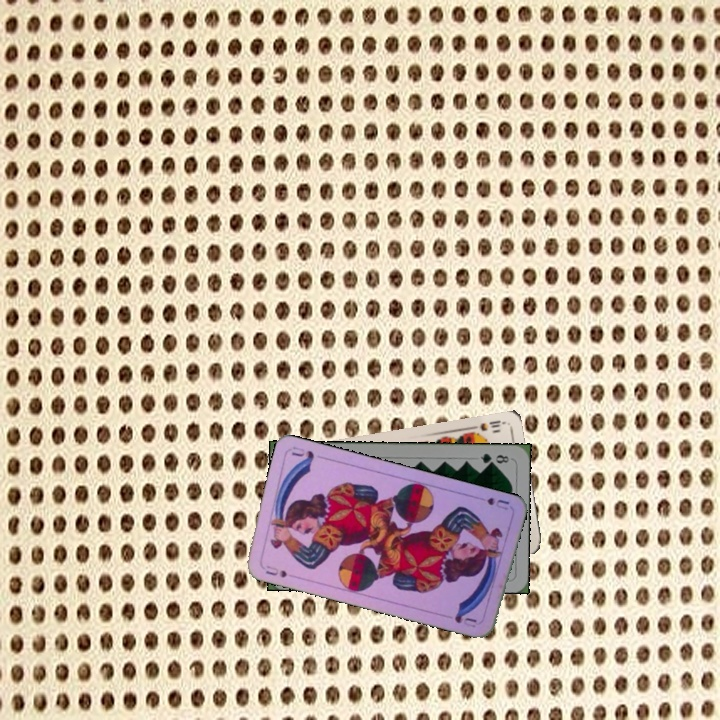G8: (476, 450, 512, 467)
S10: (467, 416, 507, 438)
SU: (258, 560, 290, 580), (483, 493, 512, 512)
